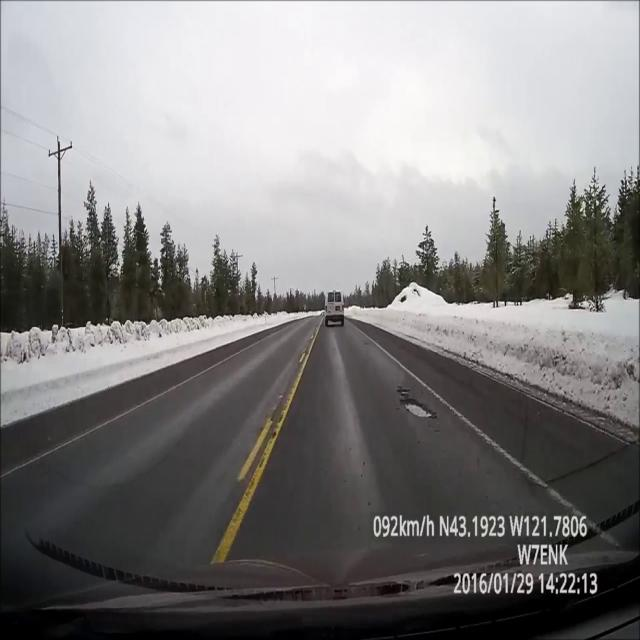Pothole: (400, 398, 439, 418), (398, 386, 410, 396)
